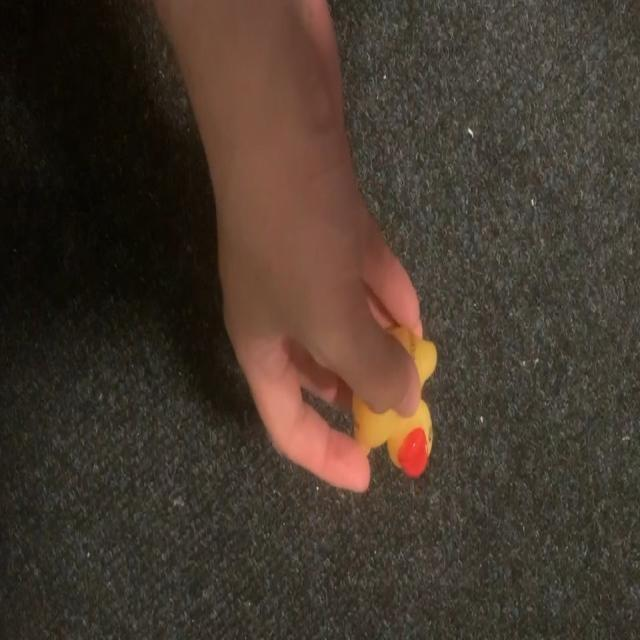rubber-duck: (351, 395, 430, 475), (390, 326, 435, 387)
